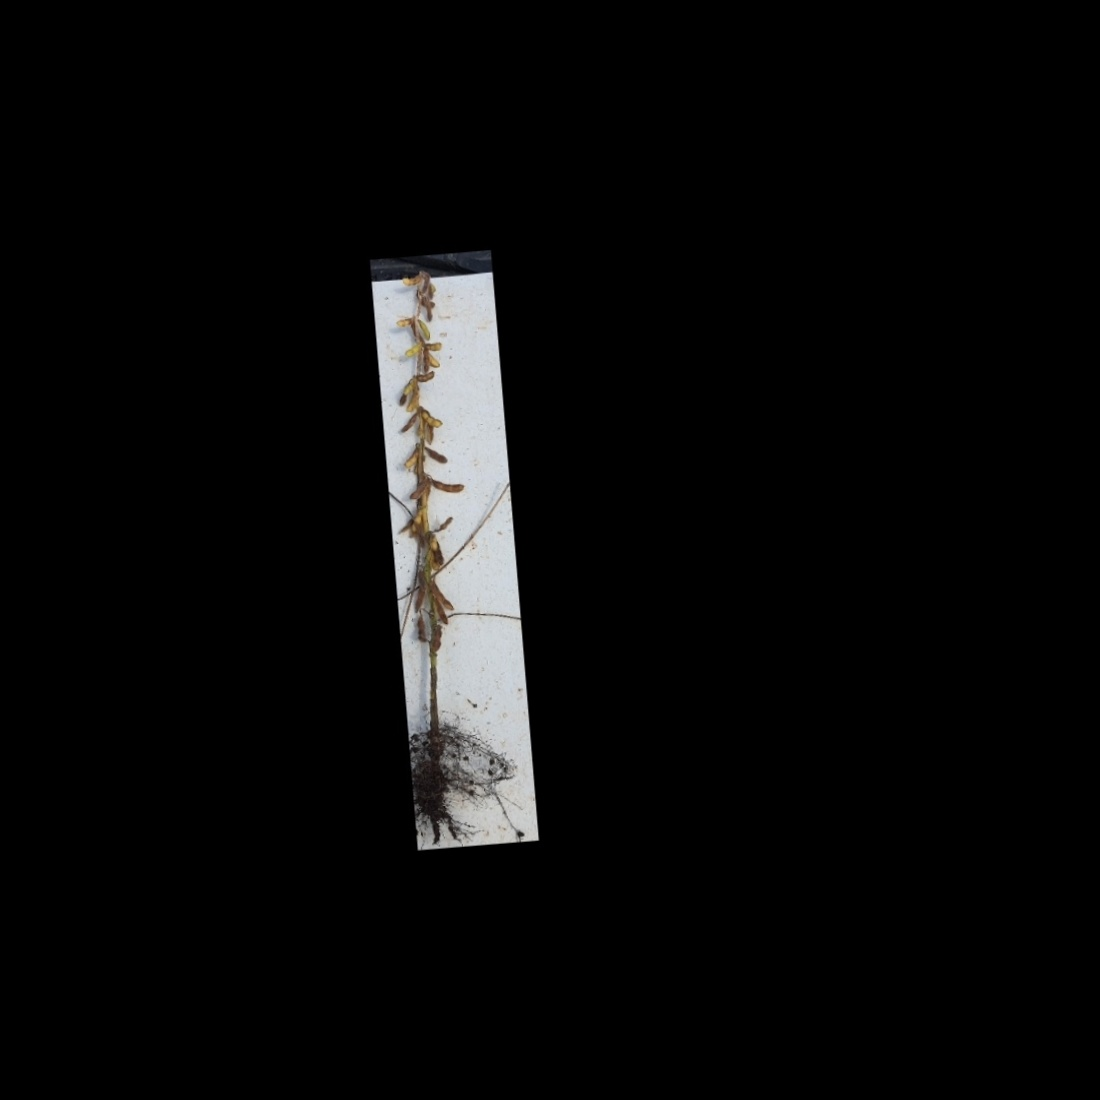pod: (429, 473, 467, 498), (394, 410, 419, 439), (420, 406, 444, 430), (424, 444, 450, 465), (433, 598, 450, 628), (400, 446, 420, 469), (416, 317, 433, 343), (399, 270, 421, 290), (395, 311, 415, 332), (416, 368, 435, 384)
soy: (374, 257, 518, 813)
